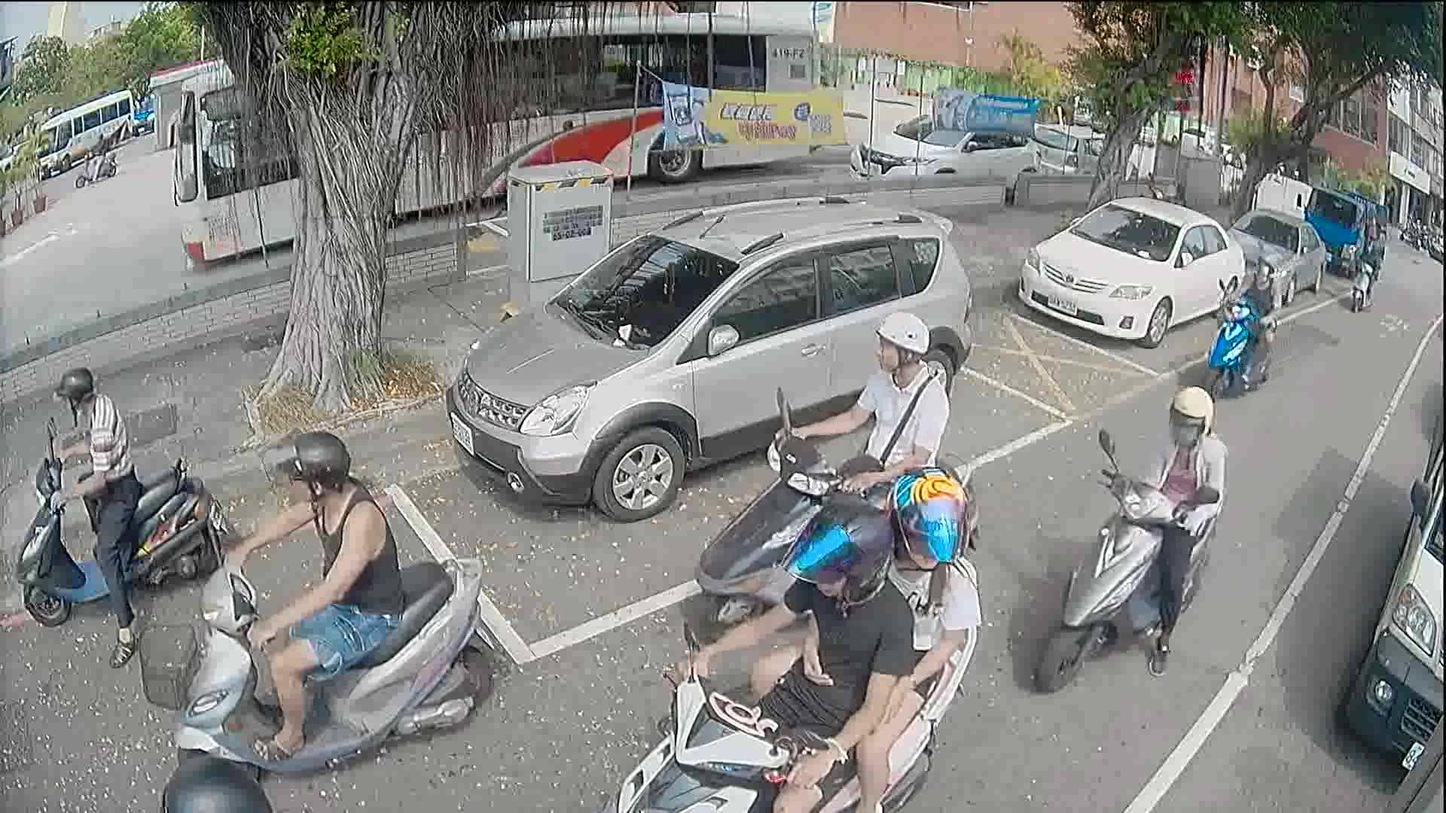person: (748, 459, 975, 812), (659, 501, 901, 812), (214, 423, 403, 769), (774, 311, 947, 498), (35, 371, 148, 652), (1130, 376, 1228, 676), (1207, 256, 1281, 391), (159, 746, 274, 811), (83, 129, 108, 184), (1357, 238, 1381, 266)
